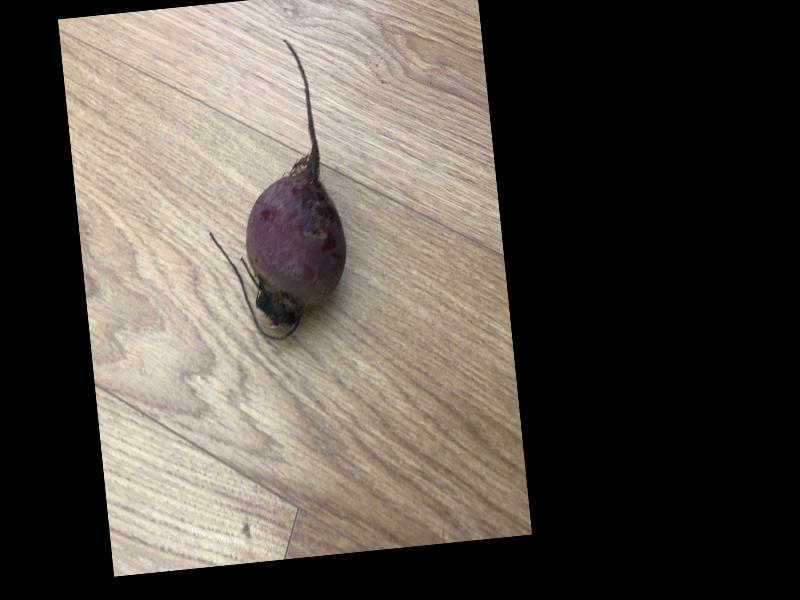Beet: (191, 34, 355, 345)
